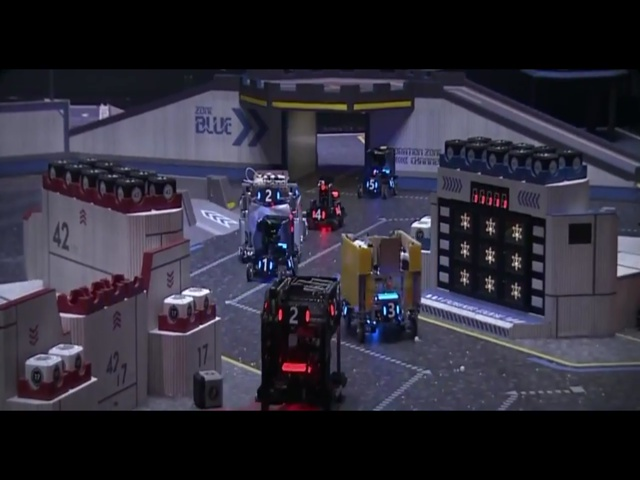bluePlate: (375, 290, 402, 323), (254, 243, 275, 280), (254, 181, 287, 204), (363, 177, 380, 196), (384, 172, 394, 189)
redPlate: (271, 297, 314, 332), (307, 199, 329, 228), (325, 294, 343, 326), (333, 201, 345, 221)
